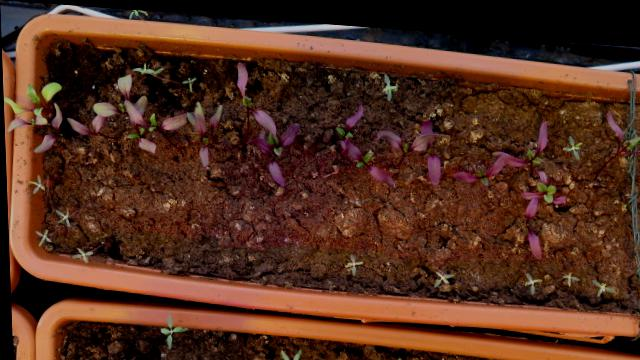weed: (375, 64, 400, 97), (558, 122, 583, 153), (338, 245, 364, 272), (519, 261, 543, 287), (427, 260, 453, 282), (23, 171, 46, 195), (588, 268, 615, 288), (274, 340, 302, 359), (66, 243, 93, 262), (29, 225, 52, 247), (175, 70, 198, 90), (556, 259, 580, 278)
